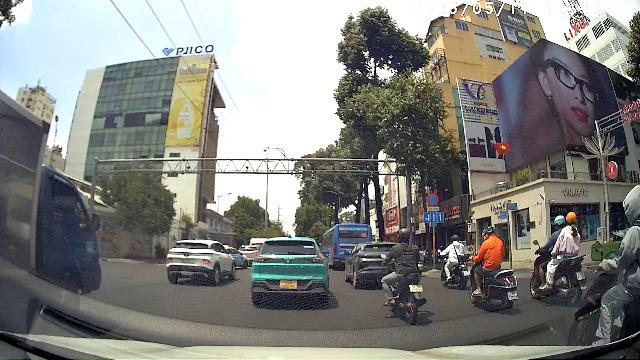131a-cam-do-xe: (427, 192, 439, 206)
